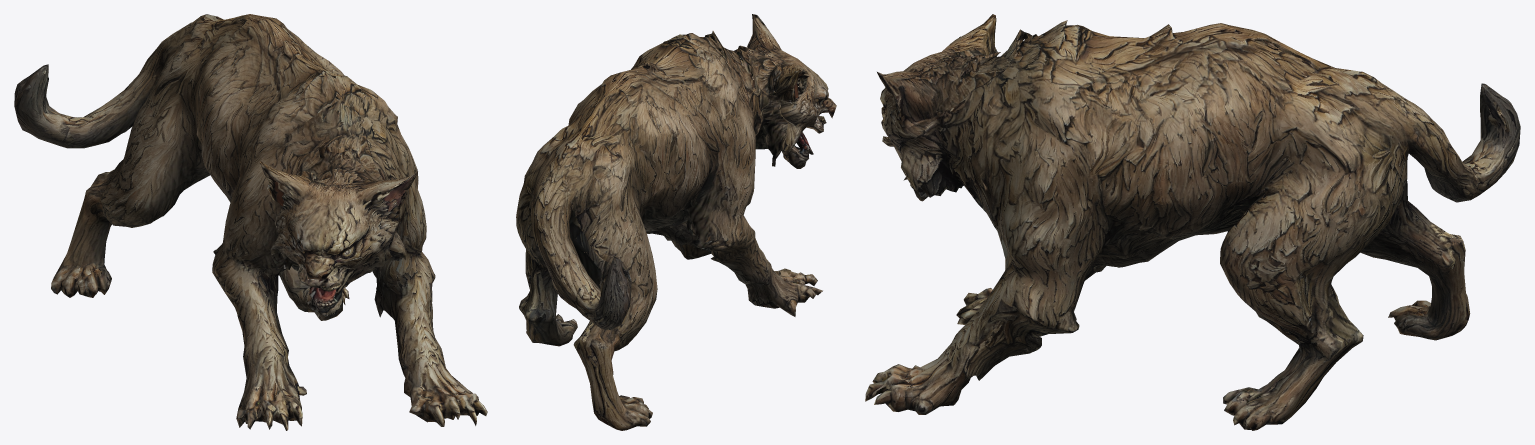
Rendered from Cat.glb.
3 views of the same model, side by side, from view 1: azimuth 30°, elevation 25°; view 2: azimuth 150°, elevation 25°; view 3: azimuth 270°, elevation 25° (orthographic). The views are drawn at different scales.
Visible parts, largest first — view 1: texture_mapping; view 2: texture_mapping; view 3: texture_mapping.
Part boxes in pixels (left/top/right/bottom): texture_mapping: left=14, top=14, right=487, bottom=430; texture_mapping: left=516, top=14, right=836, bottom=430; texture_mapping: left=865, top=14, right=1520, bottom=430.
Size of the model in its own units: 0.4463 by 0.6108 by 0.9989.
Materials: 1 (1 with a texture image).
